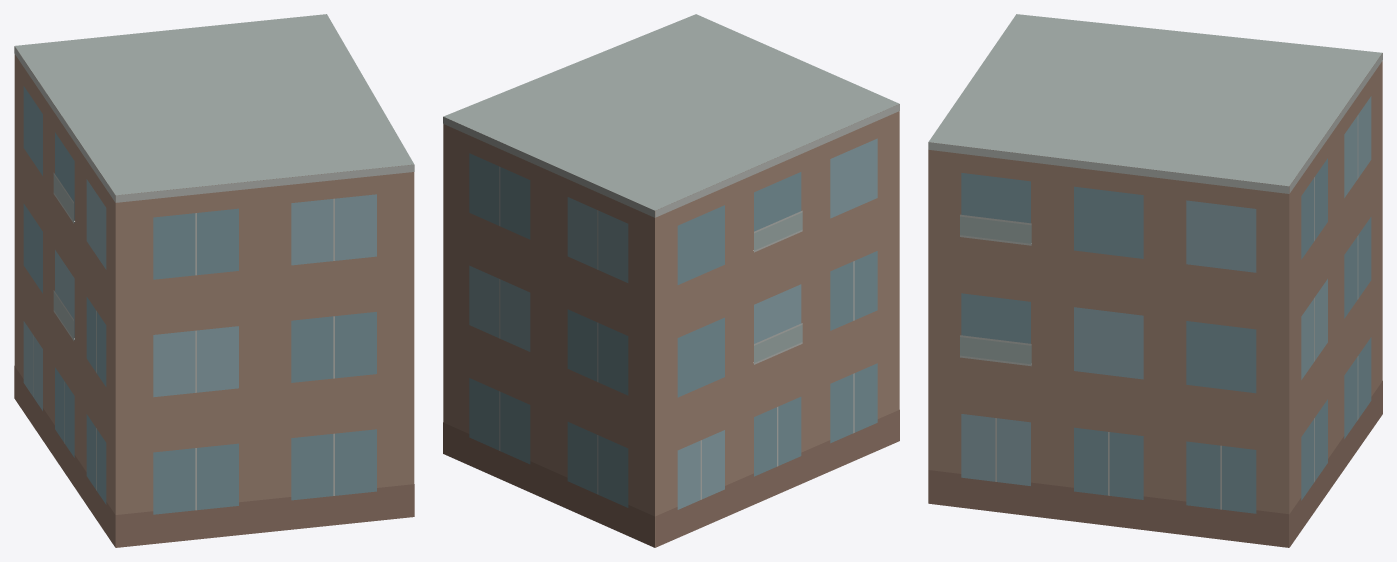
The model's file is survey-upis-32984302.glb.
3 views of the same model, side by side, from view 1: azimuth 30°, elevation 25°; view 2: azimuth 150°, elevation 25°; view 3: azimuth 270°, elevation 25° (orthographic). The views are drawn at different scales.
Visible parts, largest first — view 1: survey-upis-32984302.tmp; view 2: survey-upis-32984302.tmp; view 3: survey-upis-32984302.tmp.
Part boxes in pixels (box(x1,y1,x2,y2)): survey-upis-32984302.tmp: box(14, 14, 414, 547); survey-upis-32984302.tmp: box(443, 14, 899, 547); survey-upis-32984302.tmp: box(928, 14, 1382, 547).
Bounding box in the file's own units: 11.77 × 11.5 × 13.11.
